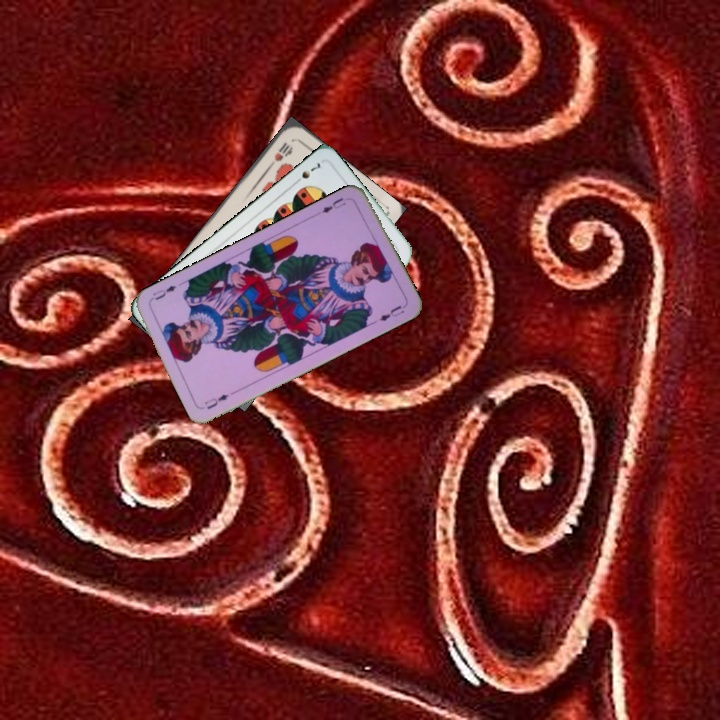EU: (200, 390, 231, 412), (318, 194, 348, 216)
H10: (265, 138, 294, 170)
S7: (289, 158, 323, 188)
